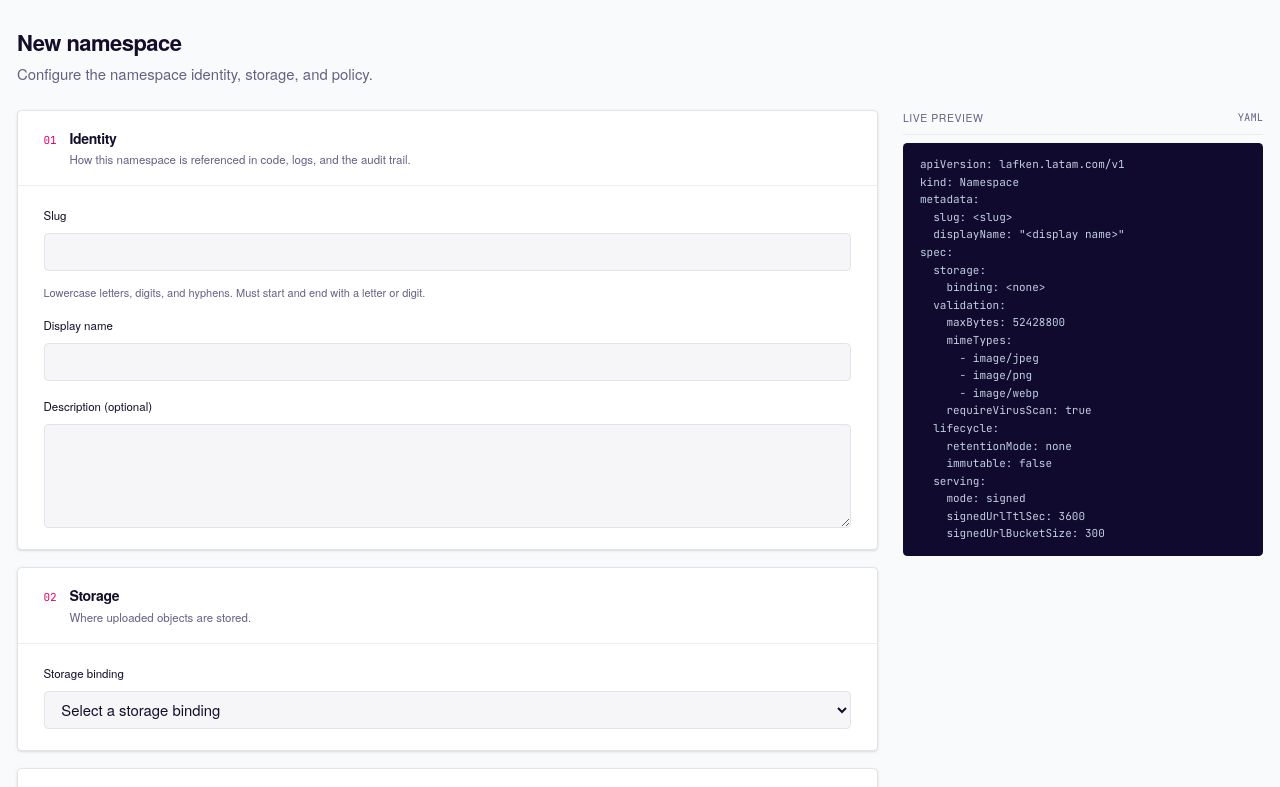
it: NewNamespacePage › renders a live YAML preview that reflects the current slug
Type "aircraft-photos" into the field labelled "Slug" at (447, 252), box [44, 233, 851, 271]
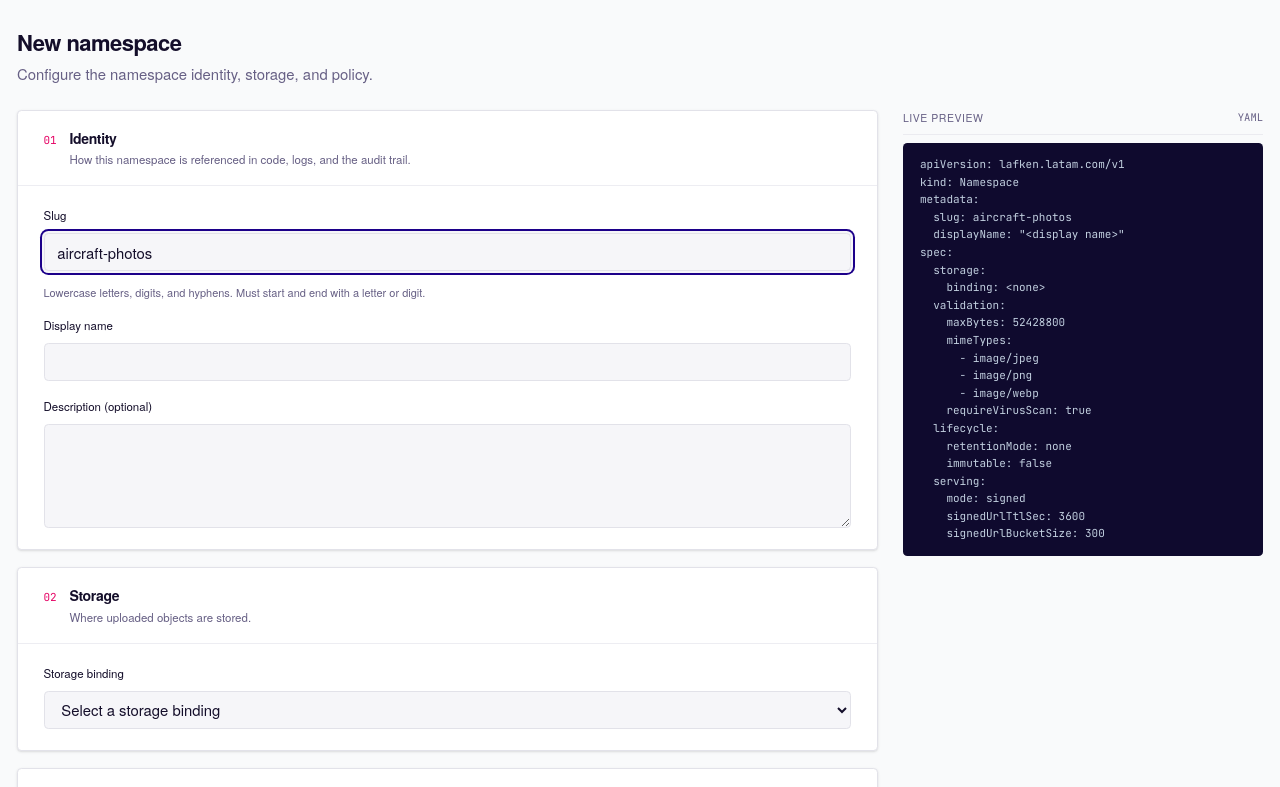
Result: the element labelled "YAML" shows "slug: aircraft-photos" at [920, 157, 1125, 540]
